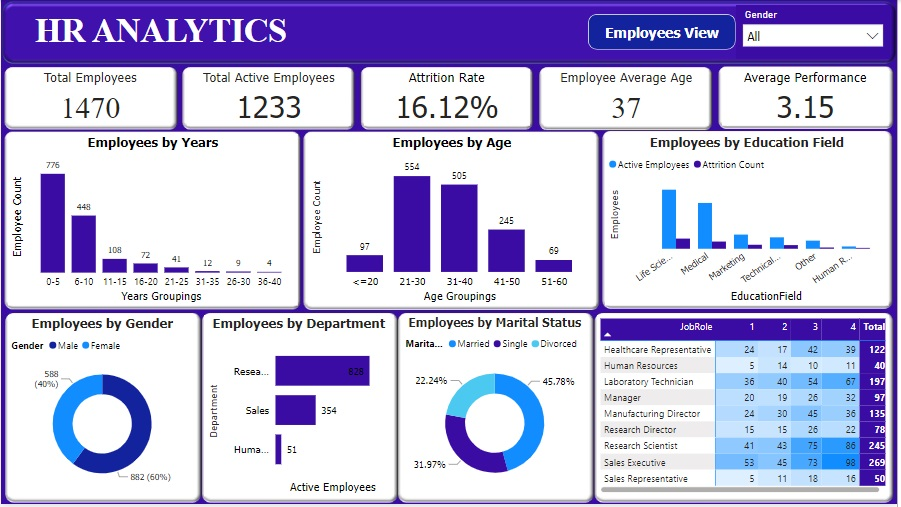

This screenshot's page, from the dashboard's own definition file:
{"tool":"powerbi","page":{"name":"Employee","canvas":[1280,720],"ordinal":0},"visuals":[{"type":"card","title":"Total Employees","fields":{"Values":["Calculations.Total Number of Employees"]},"box":[9.9,99.2,235.3,80.8],"z":0},{"type":"card","title":"Total Active Employees","fields":{"Values":["Calculations.Active Employees"]},"box":[265,99.2,233.9,80.8],"z":1000},{"type":"card","title":"Attrition Rate","fields":{"Values":["Calculations.Attrition Rate"]},"box":[518.7,99.2,236.7,80.8],"z":2000},{"type":"card","title":"Employee Average Age","fields":{"Values":["Calculations.Employee Average Age"]},"box":[775.3,99.2,235.3,80.8],"z":3000},{"type":"card","title":"Average Performance","fields":{"Values":["Calculations.Employee Performance"]},"box":[1030.4,99.2,238.1,80.8],"z":4000},{"type":"clusteredColumnChart","title":"Employees by Age","fields":{"Category":["hr data.Age Groupings"],"Y":["CountNonNull(hr data.Age Groupings)"]},"box":[438,191.3,411,245.2],"z":5000},{"type":"clusteredColumnChart","title":"Employees by Years","fields":{"Category":["hr data.Years Groupings"],"Y":["CountNonNull(hr data.Years Groupings)"]},"box":[9.9,191.3,413.9,245.2],"z":6000},{"type":"clusteredColumnChart","title":"Employees by Education Field","fields":{"Category":["hr data.EducationField"],"Y":["Calculations.Active Employees","Calculations.Attrition Count"]},"box":[863.1,191.3,405.4,245.2],"z":7000},{"type":"clusteredBarChart","title":"Employees by Department","fields":{"Category":["hr data.Department"],"Y":["Calculations.Active Employees"]},"box":[290.6,450.7,270.7,259.4],"z":8000},{"type":"slicer","fields":{"Values":["hr data.Gender"]},"box":[1050.2,7.1,219.7,76.5],"z":9000},{"type":"donutChart","title":"Employees by Marital Status","fields":{"Y":["Calculations.Total Number of Employees"],"Category":["hr data.MaritalStatus"]},"box":[572.6,450.7,265,259.4],"z":10000},{"type":"donutChart","title":"Employees by Gender","fields":{"Category":["hr data.Gender"],"Y":["CountNonNull(hr data.Gender)"]},"box":[9.9,450.7,269.3,259.4],"z":11000},{"type":"pivotTable","fields":{"Rows":["hr data.JobRole"],"Columns":["hr data.JobSatisfaction"],"Values":["Calculations.Active Employees"]},"box":[851.8,450.7,416.7,259.4],"z":12000},{"type":"textbox","box":[9.9,11.3,436.5,66.6],"z":13000},{"type":"shape","box":[838.6,20,211.4,51.4],"z":14001}]}

Visuals, with their boxes in screenshot pixels (x1, y1, x2, y2), scaled from the page's 1280x720 canvas onto the 901x507 screenshot:
"Total Employees" card: bbox=(7, 70, 173, 127)
"Total Active Employees" card: bbox=(187, 70, 351, 127)
"Attrition Rate" card: bbox=(365, 70, 532, 127)
"Employee Average Age" card: bbox=(546, 70, 711, 127)
"Average Performance" card: bbox=(725, 70, 893, 127)
"Employees by Age" clusteredColumnChart: bbox=(308, 135, 598, 307)
"Employees by Years" clusteredColumnChart: bbox=(7, 135, 298, 307)
"Employees by Education Field" clusteredColumnChart: bbox=(608, 135, 893, 307)
"Employees by Department" clusteredBarChart: bbox=(205, 317, 395, 500)
slicer - hr data.Gender: bbox=(739, 5, 894, 59)
"Employees by Marital Status" donutChart: bbox=(403, 317, 590, 500)
"Employees by Gender" donutChart: bbox=(7, 317, 197, 500)
pivotTable - hr data.JobRole x hr data.JobSatisfaction: bbox=(600, 317, 893, 500)
textbox: bbox=(7, 8, 314, 55)
shape: bbox=(590, 14, 739, 50)
